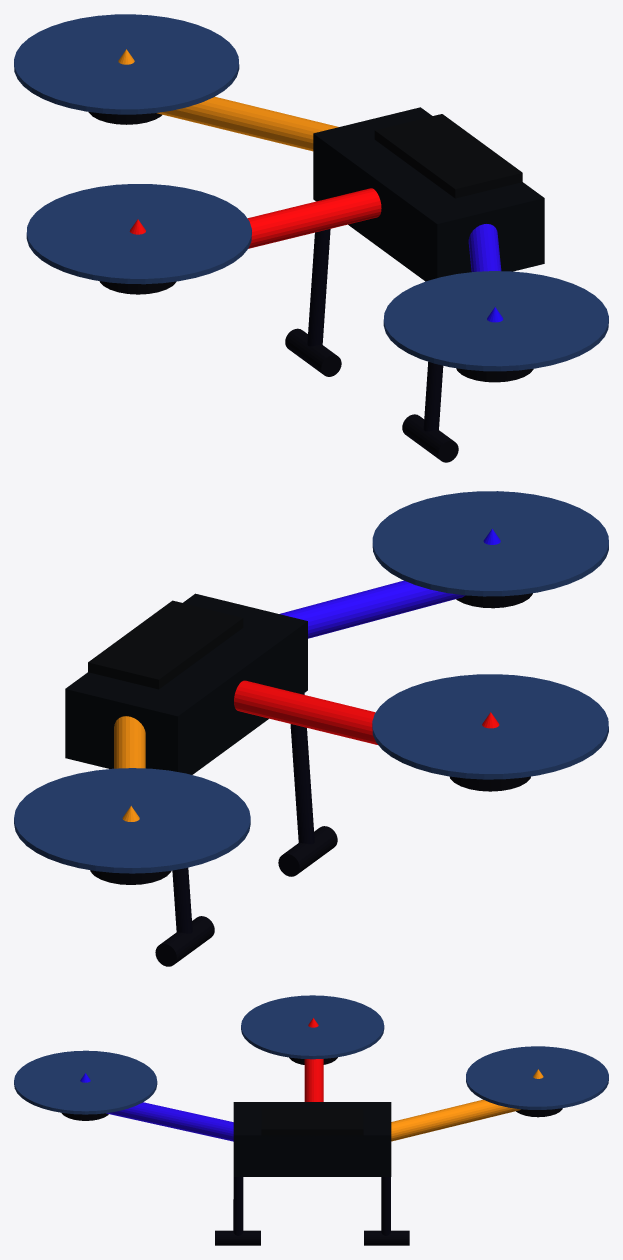
The model's file is hex10.obj.
3 views of the same model, one above another, from view 1: azimuth 30°, elevation 25°; view 2: azimuth 150°, elevation 25°; view 3: azimuth 270°, elevation 25° (orthographic). The views are drawn at different scales.
Visible parts, largest first — view 1: Body, Prop, Prop.001, Prop.002, Body_Top, Arm, Arm.001, Foot, Leg, Aft_Arm, Leg.001, Motor.001 (+2 smaller); view 2: Body, Prop.002, Prop, Prop.001, Body_Top, Arm.001, Aft_Arm, Foot, Leg.001, Arm, Leg, Motor.002 (+2 smaller); view 3: Body, Prop.001, Prop.002, Prop, Body_Top, Arm, Aft_Arm, Foot, Arm.001, Leg.001, Leg.
Boxes of the visible parts, <box> form: Body: <box>313,107,544,281</box>; Prop: <box>14,14,239,114</box>; Prop.001: <box>383,271,608,371</box>; Prop.002: <box>26,184,251,284</box>; Body_Top: <box>374,114,522,198</box>; Arm: <box>157,97,338,151</box>; Arm.001: <box>247,188,381,248</box>; Foot: <box>285,328,458,462</box>; Leg: <box>307,229,330,346</box>; Aft_Arm: <box>468,224,501,271</box>; Leg.001: <box>423,361,443,431</box>; Motor.001: <box>456,368,533,382</box>; Body: <box>65,593,307,774</box>; Prop.002: <box>372,674,608,779</box>; Prop: <box>14,768,250,873</box>; Prop.001: <box>372,491,608,596</box>; Body_Top: <box>88,600,243,689</box>; Arm.001: <box>234,680,377,744</box>; Aft_Arm: <box>279,580,465,638</box>; Foot: <box>155,826,337,966</box>; Leg.001: <box>290,693,314,844</box>; Arm: <box>114,716,145,768</box>; Leg: <box>172,867,192,933</box>; Motor.002: <box>450,776,530,791</box>; Body: <box>233,1102,391,1176</box>; Prop.001: <box>14,1050,157,1114</box>; Prop.002: <box>241,995,384,1059</box>; Prop: <box>466,1046,608,1109</box>; Body_Top: <box>261,1108,363,1136</box>; Arm: <box>391,1099,520,1141</box>; Aft_Arm: <box>106,1102,233,1141</box>; Foot: <box>215,1230,409,1245</box>; Arm.001: <box>304,1059,323,1101</box>; Leg.001: <box>233,1177,243,1235</box>; Leg: <box>381,1177,390,1235</box>.
Size of the model in its own units: 0.5437 by 0.2873 by 1.
